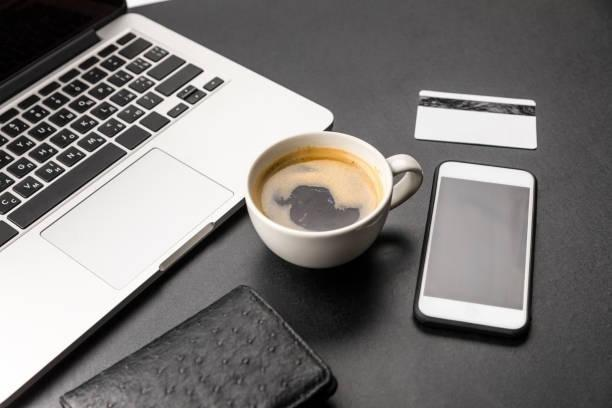cup-handle: (244, 129, 423, 269)
